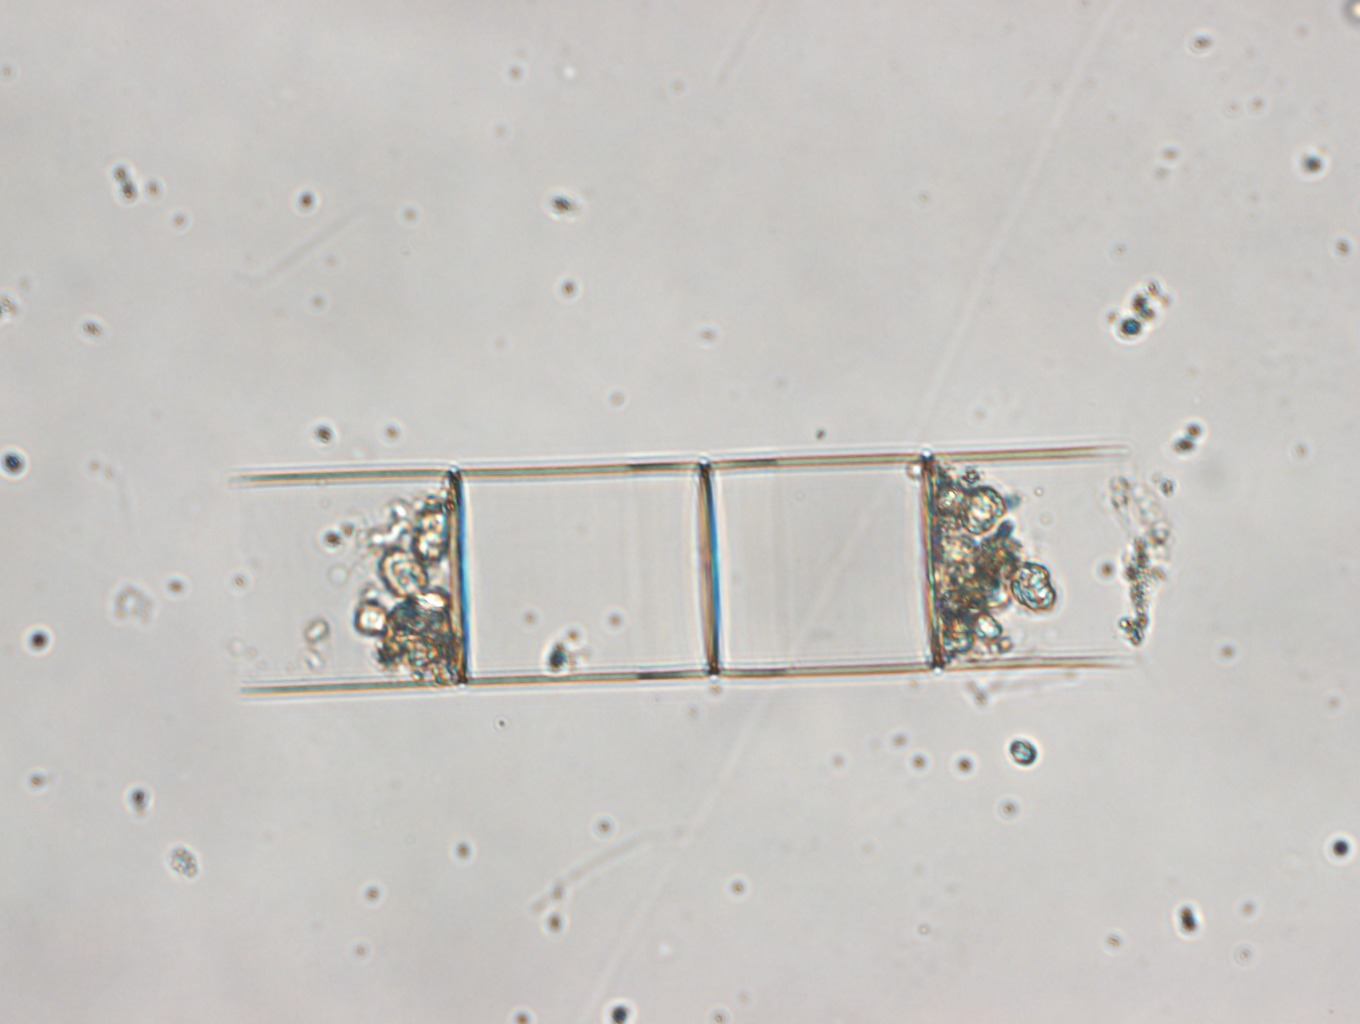guinardia flaccida: (228, 442, 1130, 691)
